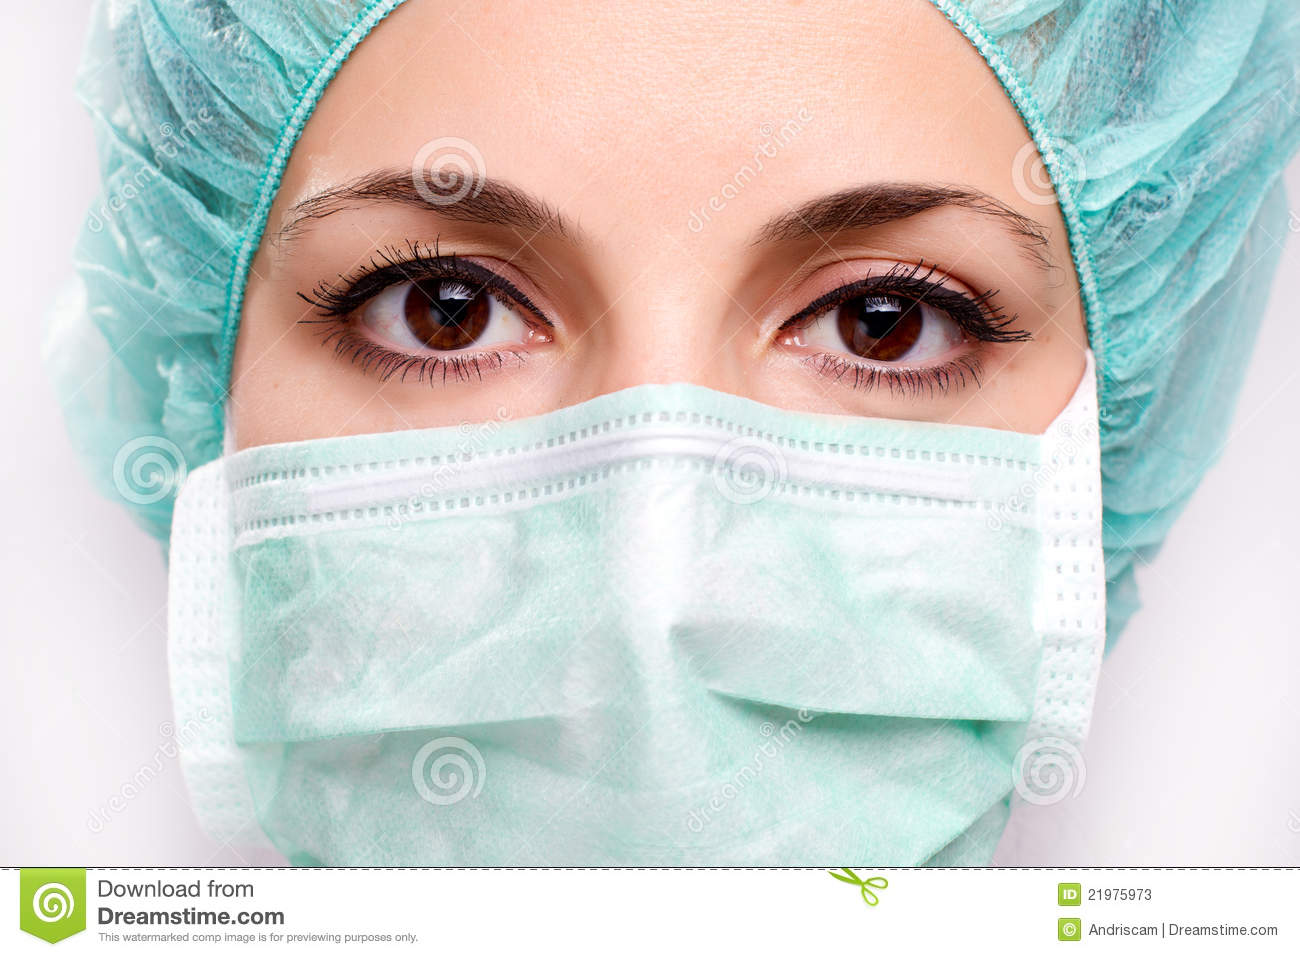mask: (175, 452, 1082, 846)
